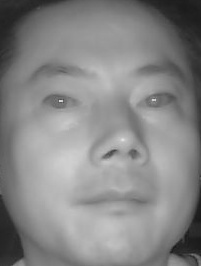eye: (40, 88, 85, 115), (136, 91, 177, 114)
mouth: (74, 181, 149, 221)
